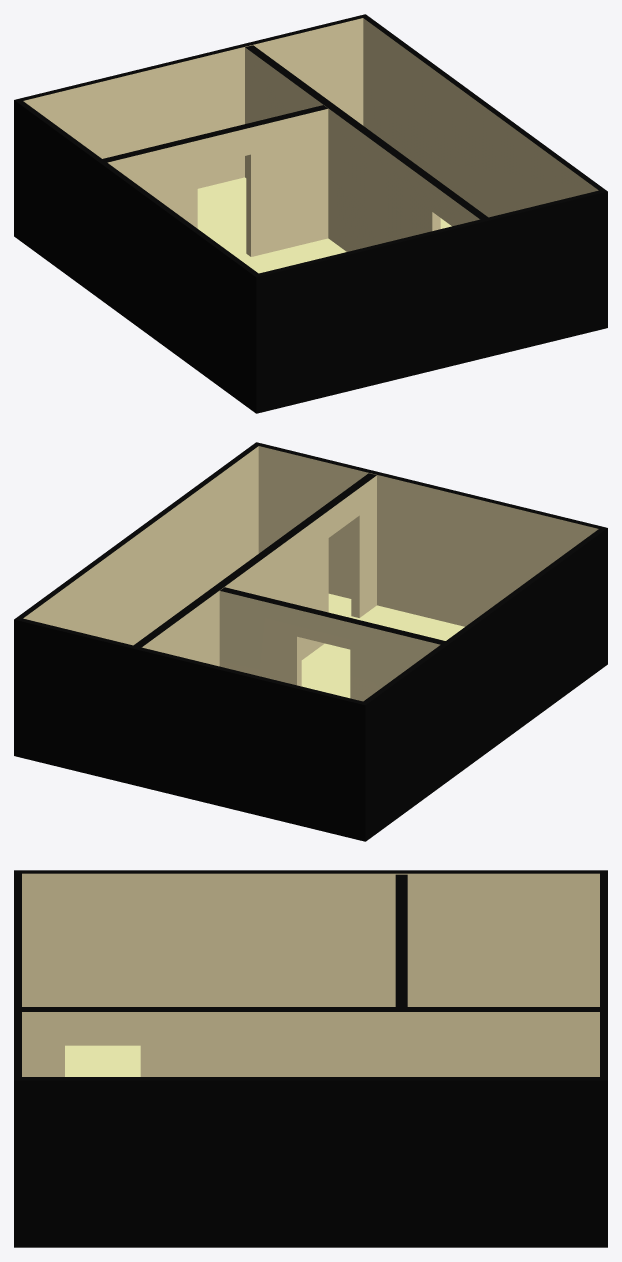
Rendered from TopFloor.fbx.
3 views of the same model, one above another, from view 1: azimuth 30°, elevation 25°; view 2: azimuth 150°, elevation 25°; view 3: azimuth 270°, elevation 25° (orthographic). The views are drawn at different scales.
Parts seen in each view (by area): view 1: Plane; view 2: Plane; view 3: Plane.
Part boxes in pixels (left/top/right/bottom): Plane: left=14, top=14, right=607, bottom=413; Plane: left=14, top=442, right=607, bottom=841; Plane: left=14, top=870, right=607, bottom=1247.
Size of the model in its own units: 709 by 847 by 263.
